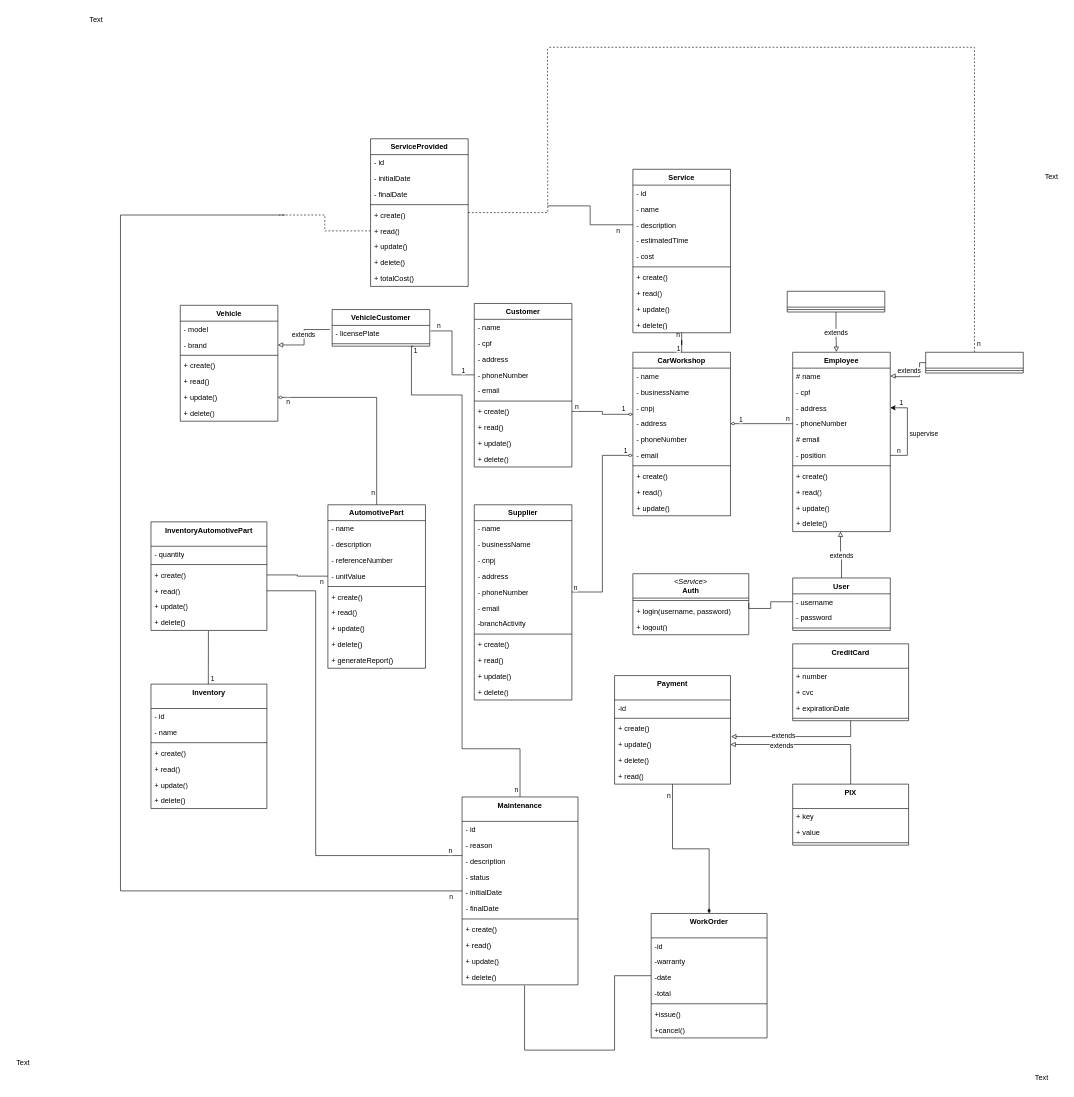
Image size: 1074x1097. Some labels were removed from this diagram. The shapes that lost their labels are listed below. From the top down, each one's centre as x and y in pixels, then its label:
the point at 836,301: attendant
the point at 974,362: Mechanic
